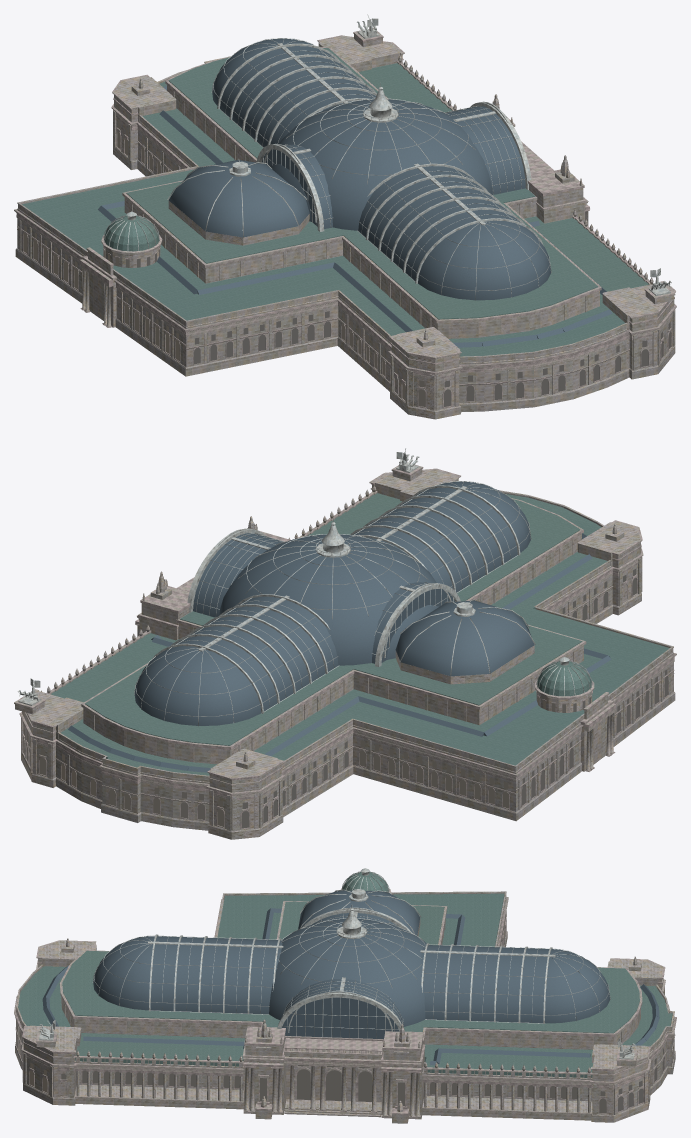
Rendered from grand-palais.glb.
3 renders of one model, top to bottom at view 1: azimuth 30°, elevation 25°; view 2: azimuth 150°, elevation 25°; view 3: azimuth 270°, elevation 25°, orthographic. The views are drawn at different scales.
Parts seen in each view (by area): view 1: glass, stone, roof, trim, metal, window; view 2: glass, stone, roof, trim, metal, window; view 3: glass, stone, roof, trim, metal, window.
Boxes of the visible parts, x1,y1,x2,y2 form: glass: [98, 38, 612, 347]; stone: [15, 34, 675, 419]; roof: [22, 48, 648, 356]; trim: [14, 28, 676, 408]; metal: [103, 14, 671, 300]; window: [23, 122, 670, 406]; glass: [68, 481, 611, 772]; stone: [15, 469, 675, 839]; roof: [51, 493, 669, 775]; trim: [14, 462, 676, 829]; metal: [18, 448, 592, 726]; window: [23, 568, 667, 828]; glass: [42, 890, 659, 1065]; stone: [15, 891, 675, 1123]; roof: [18, 872, 672, 1077]; trim: [14, 888, 676, 1117]; metal: [38, 868, 635, 1059]; window: [17, 914, 672, 1113].
Bounding box in the file's own units: 162 × 60 × 241.
Materials: 6 (6 with a texture image).
